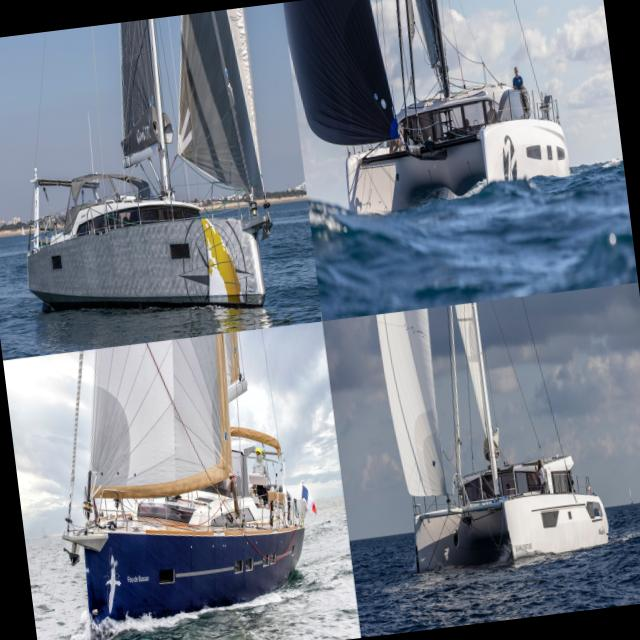boat: (0, 5, 295, 338), (40, 329, 328, 632), (278, 0, 588, 245), (372, 290, 620, 584)
